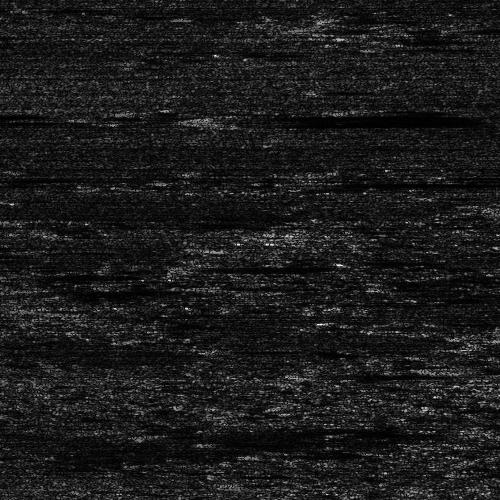rock: (221, 174, 398, 191), (302, 32, 447, 43), (148, 261, 253, 272), (387, 364, 492, 373), (0, 269, 36, 280), (186, 283, 249, 288), (474, 207, 500, 216), (185, 116, 216, 123)
shadow: (310, 174, 500, 191), (201, 261, 319, 272), (0, 269, 100, 280), (375, 32, 437, 43), (440, 364, 500, 373), (218, 283, 308, 288), (201, 116, 230, 123)
